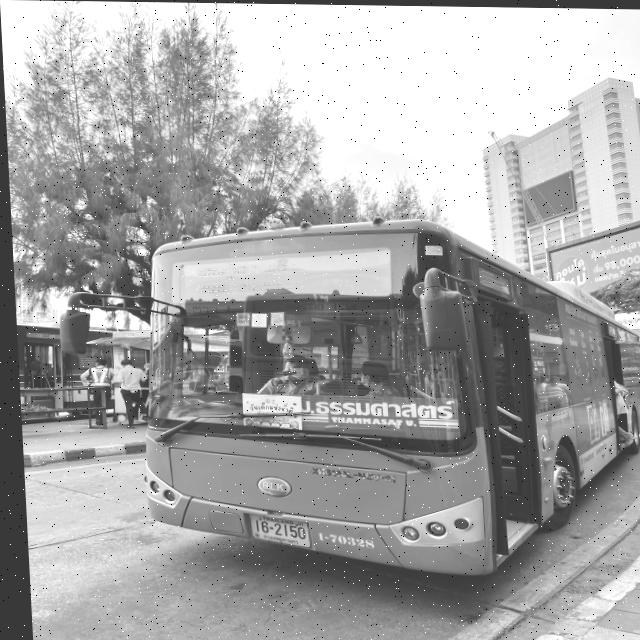BMTA-bus: (128, 216, 640, 581)
Bus-Line-Number: (298, 250, 395, 294)
Destination-Sign-Normal: (291, 391, 459, 440)
